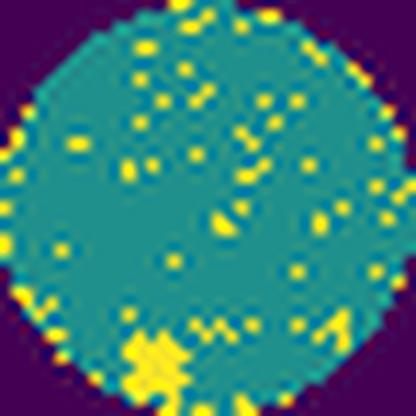Loc: (123, 328, 189, 416)
